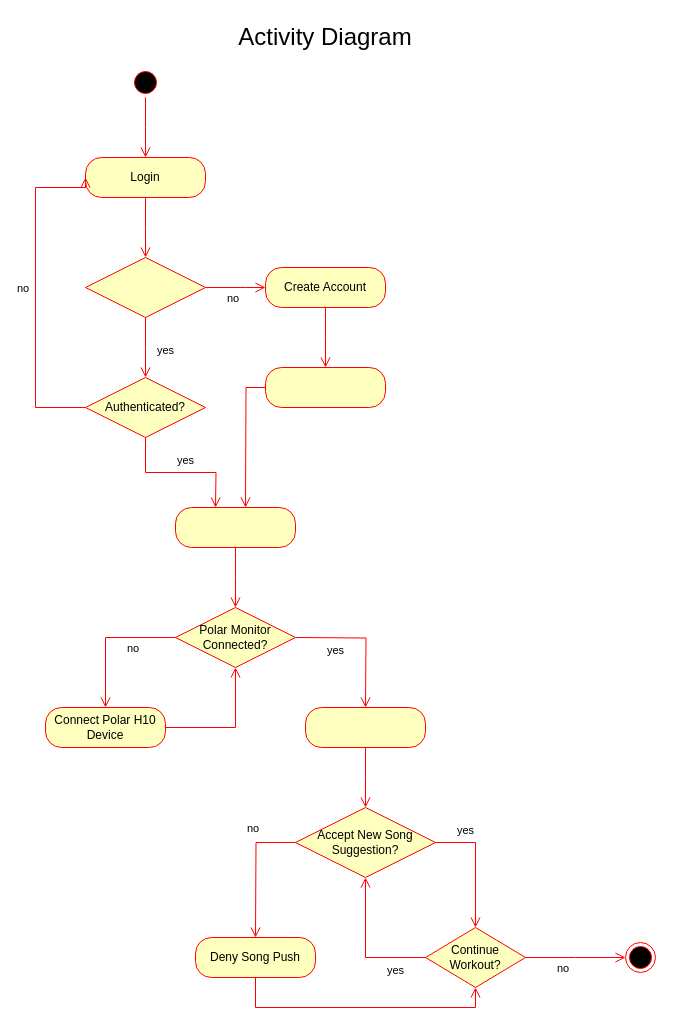
Image size: 673x1035. Some labels were removed from this diagram. Each missing label, with the centre of its shape:
Account Exists?: [145,287]
Begin Workout with Initial Playlist: [365,727]
Select Music & Workout Type: [235,527]
Set User Settings & Preferences: [325,387]
